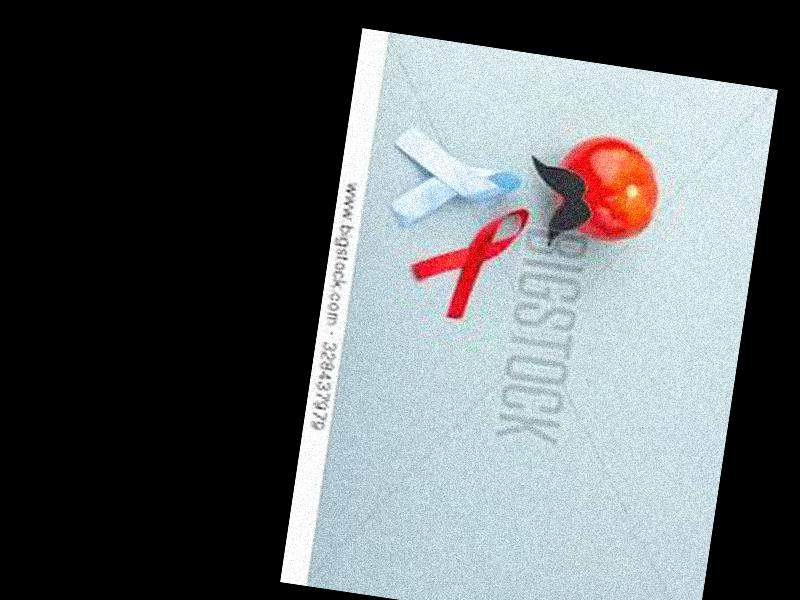Tomato: (549, 130, 665, 248)
